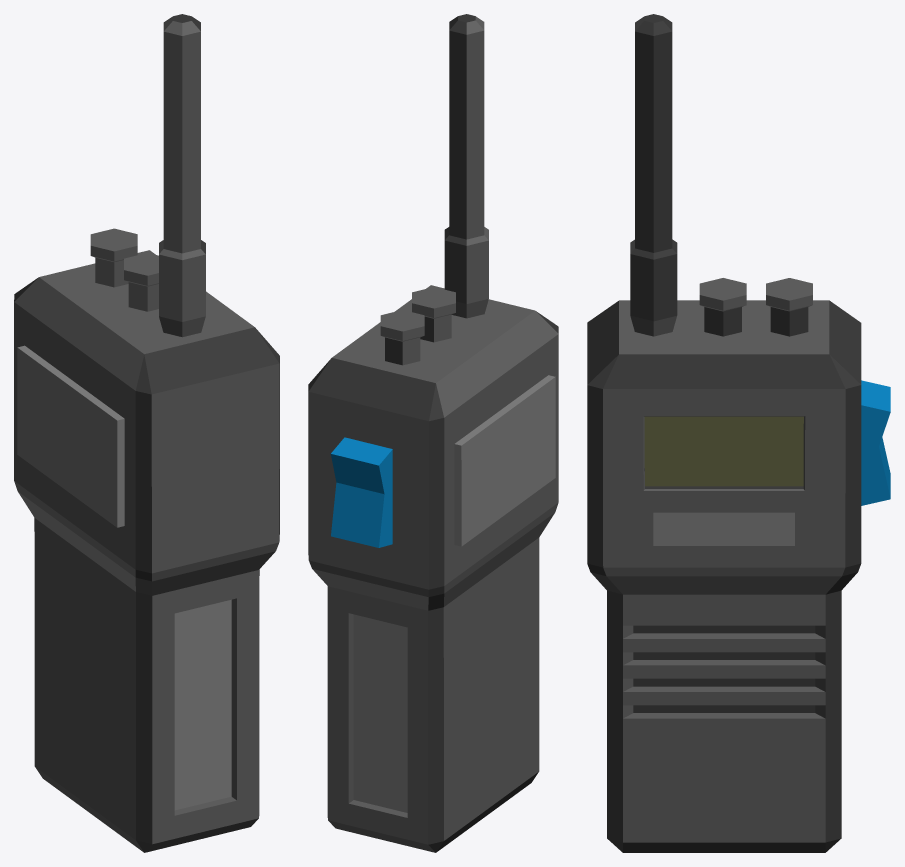
The model's file is model_radio_01.fbx.
3 renders of one model, left to right at view 1: azimuth 30°, elevation 25°; view 2: azimuth 150°, elevation 25°; view 3: azimuth 270°, elevation 25°, orthographic. The views are drawn at different scales.
Visible parts, largest first — view 1: model_radio_01; view 2: model_radio_01; view 3: model_radio_01.
Part boxes in pixels (bbox=[...]): model_radio_01: bbox=[14, 14, 279, 852]; model_radio_01: bbox=[308, 14, 558, 852]; model_radio_01: bbox=[587, 14, 890, 852].
Size of the model in its own units: 6.54 by 33.34 by 11.35.
Materials: 1 (1 with a texture image).
